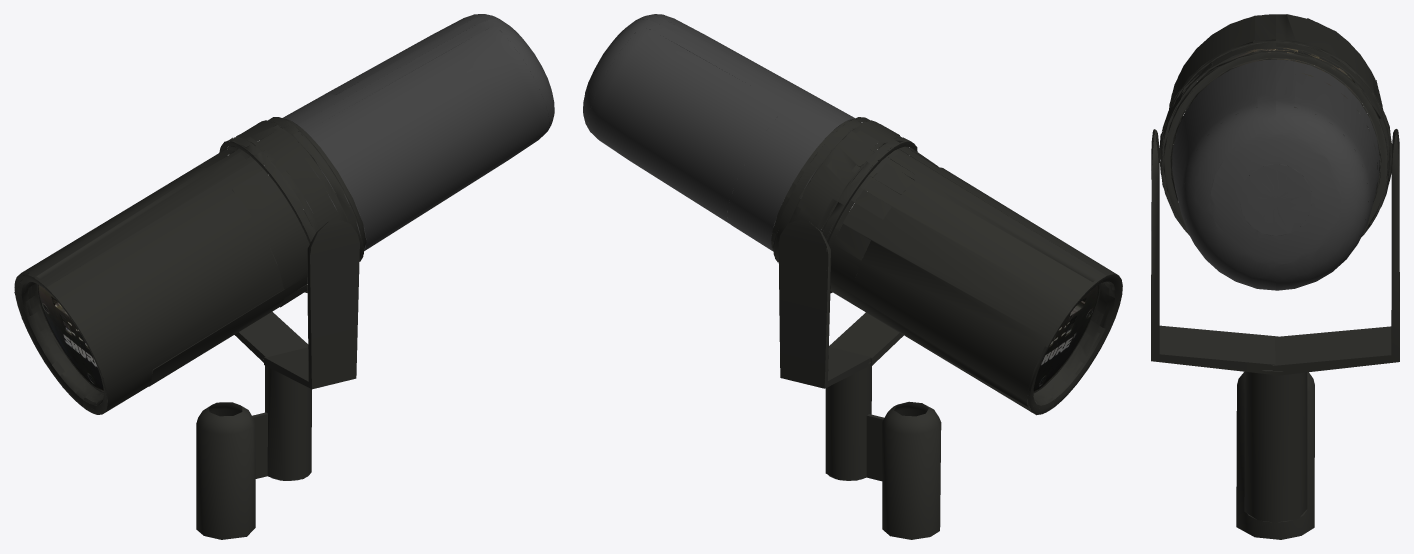
3 views of the same model, side by side, from view 1: azimuth 30°, elevation 25°; view 2: azimuth 150°, elevation 25°; view 3: azimuth 270°, elevation 25° (orthographic). The views are drawn at different scales.
Parts seen in each view (by area): view 1: Mic_10, Holder_11; view 2: Mic_10, Holder_11; view 3: Mic_10, Holder_11.
Boxes of the visible parts, <box> form: Mic_10: <box>14,14,554,414</box>; Holder_11: <box>196,189,359,539</box>; Mic_10: <box>583,14,1122,415</box>; Holder_11: <box>778,219,941,539</box>; Mic_10: <box>1159,14,1391,290</box>; Holder_11: <box>1151,129,1399,539</box>.
Size of the model in its own units: 0.2994 by 0.2532 by 0.0971.
Materials: 3 (1 with a texture image).
